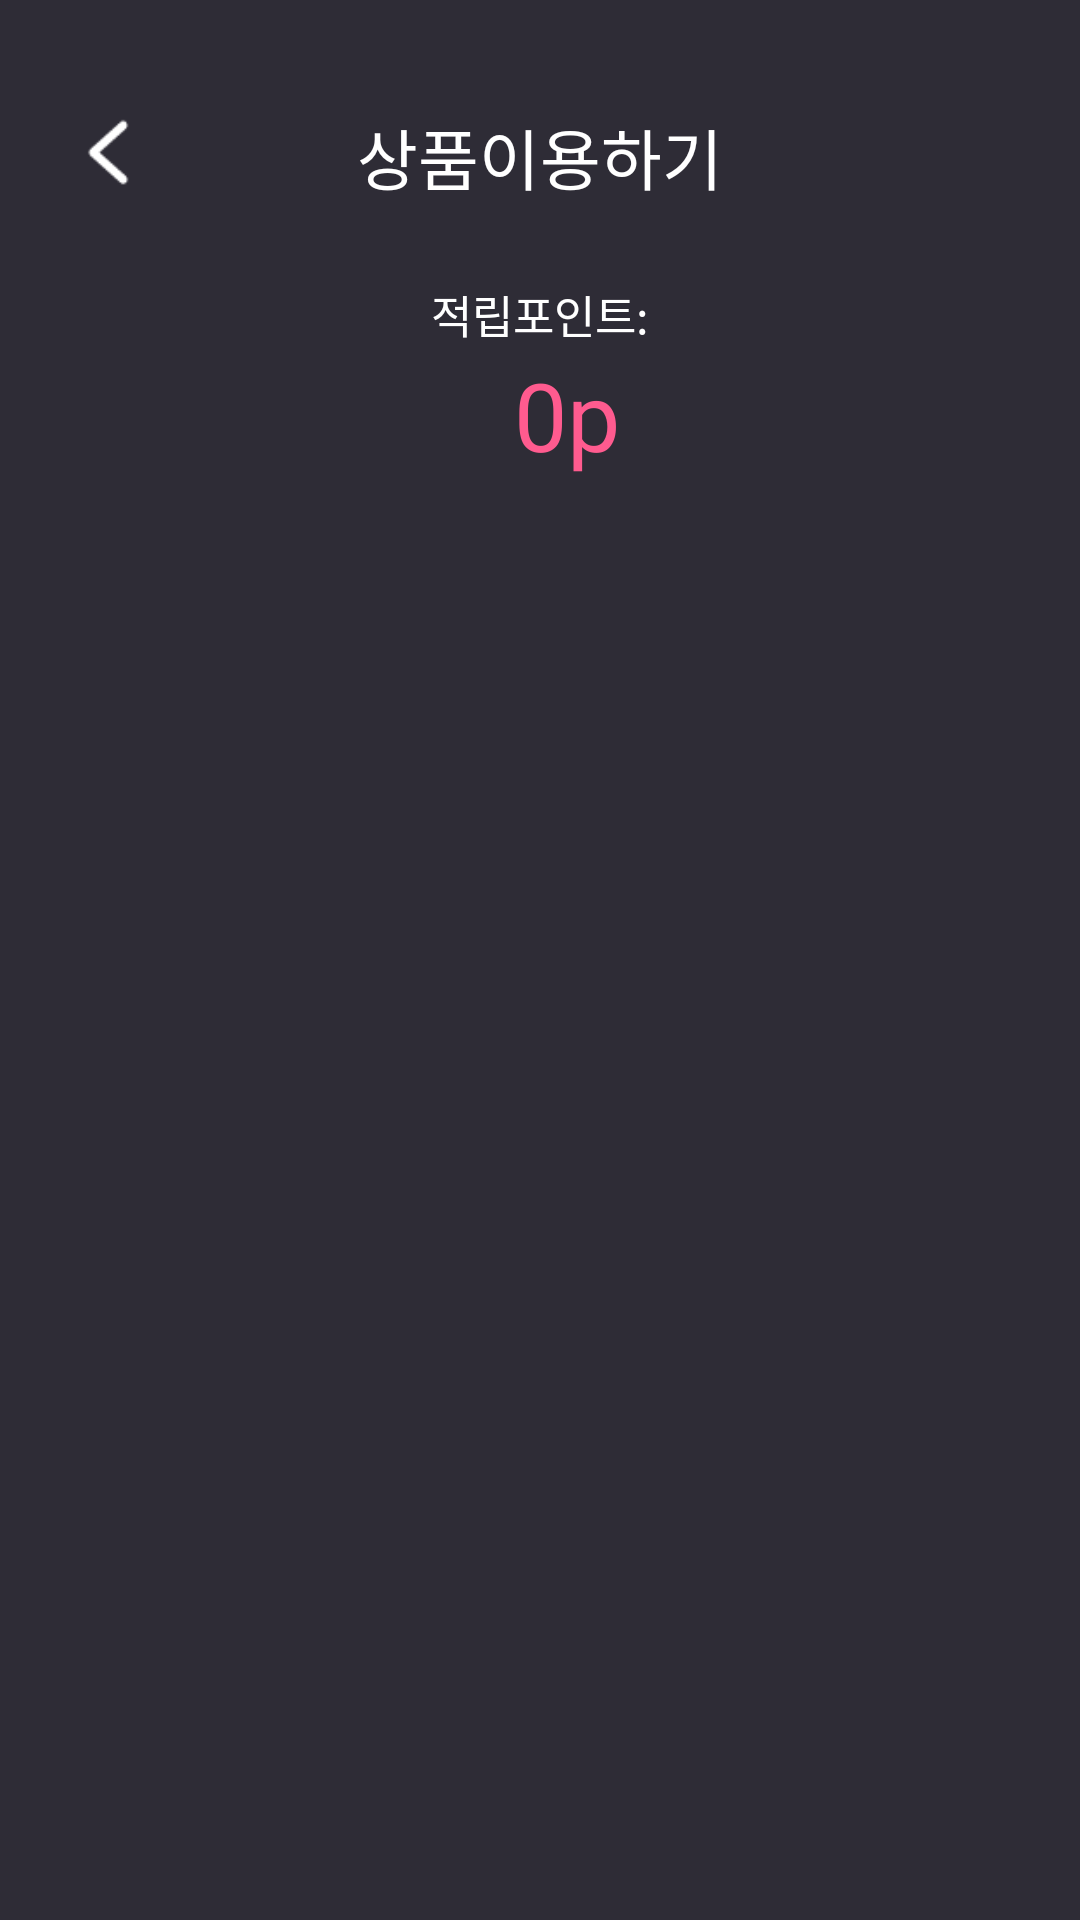

Screen size 1080x1920. Icon name, then its box in pixels as (x1, y1, x2, y2):
arrow left resize: (88, 120, 128, 185)
